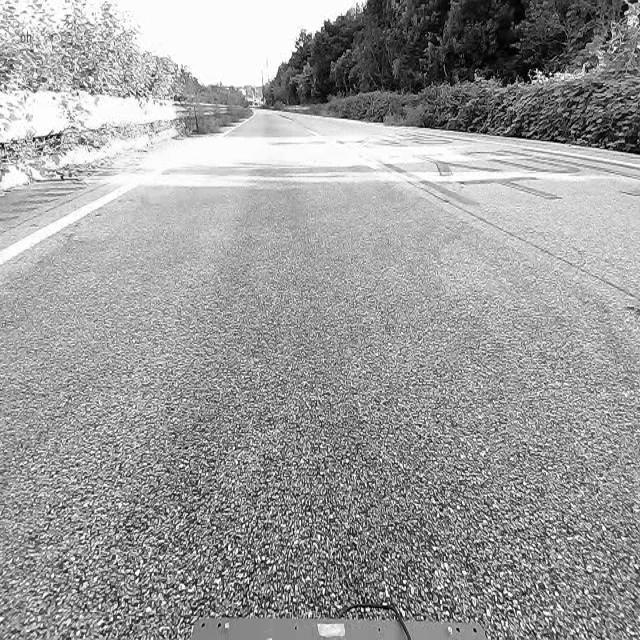Lane: (0, 170, 150, 271), (0, 178, 141, 274)
